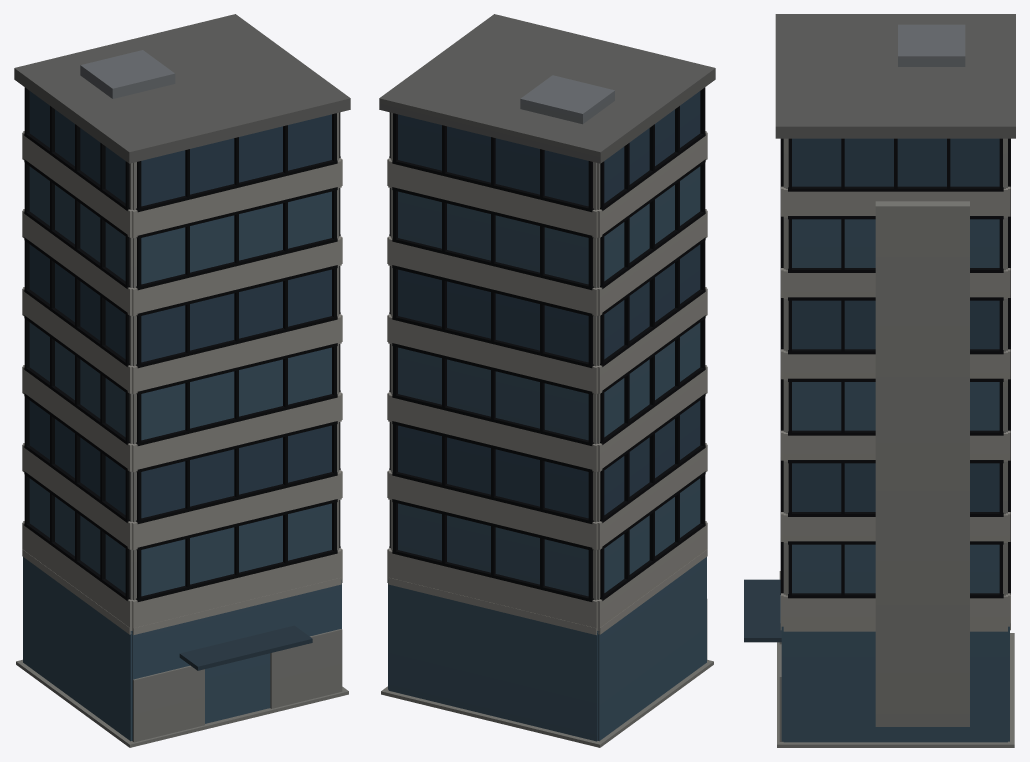
The model's file is town_city_block_tall.glb.
3 renders of one model, left to right at view 1: azimuth 30°, elevation 25°; view 2: azimuth 150°, elevation 25°; view 3: azimuth 270°, elevation 25°, orthographic. The views are drawn at different scales.
Parts seen in each view (by area): view 1: prop; view 2: prop; view 3: prop.
Boxes of the visible parts, x1,y1,x2,y2 form: prop: [14, 14, 350, 747]; prop: [379, 14, 715, 747]; prop: [744, 14, 1015, 747].
Size of the model in its own units: 10.34 by 26.45 by 10.3.
